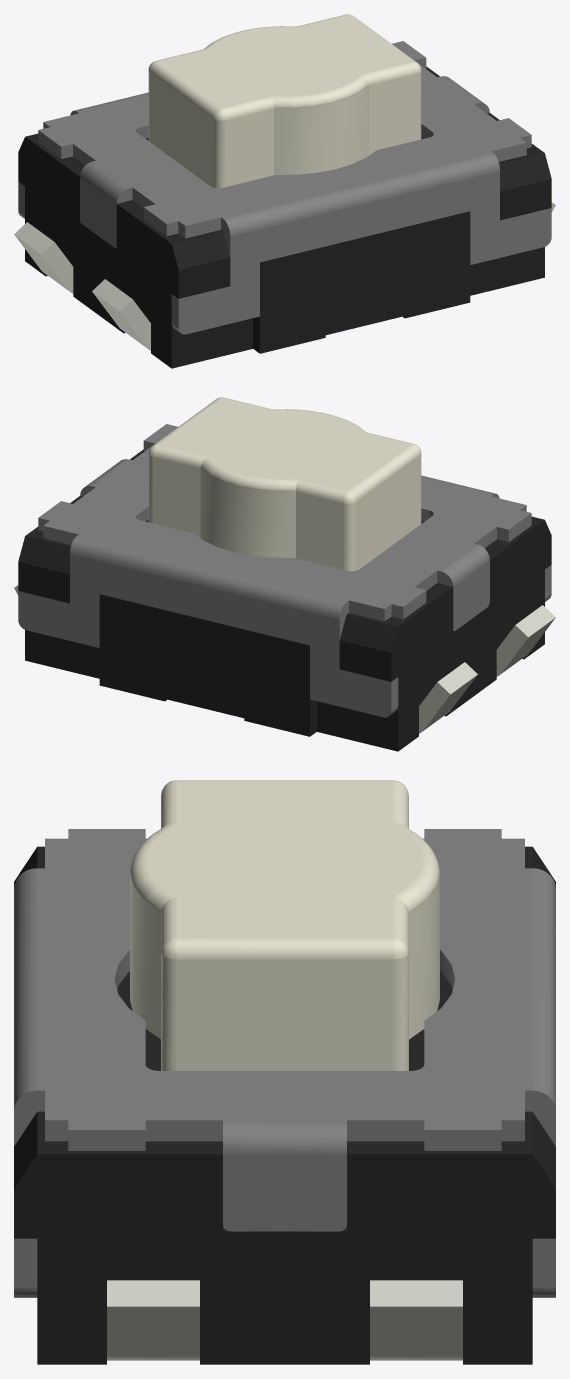
File: kc-sw_spst_evqp2_shortpushtravel_h2.5mm.glb
3 renders of one model, top to bottom at view 1: azimuth 30°, elevation 25°; view 2: azimuth 150°, elevation 25°; view 3: azimuth 270°, elevation 25°, orthographic. The views are drawn at different scales.
Visible parts, largest first — view 1: 0.25_0.25_0.25_0, 0_0_0_0, 0.75_0.75_0.6666666666666666_0, 0.6666666666666666_0.6666666666666666_0.5833333333333334_0.8; view 2: 0.25_0.25_0.25_0, 0_0_0_0, 0.75_0.75_0.6666666666666666_0, 0.6666666666666666_0.6666666666666666_0.5833333333333334_0.8; view 3: 0.25_0.25_0.25_0, 0_0_0_0, 0.75_0.75_0.6666666666666666_0, 0.6666666666666666_0.6666666666666666_0.5833333333333334_0.8.
Part boxes in pixels (x1,y1,x2,y2): 0.25_0.25_0.25_0: (18, 41, 551, 334); 0_0_0_0: (18, 66, 551, 368); 0.75_0.75_0.6666666666666666_0: (148, 14, 421, 188); 0.6666666666666666_0.6666666666666666_0.5833333333333334_0.8: (14, 202, 555, 350); 0.25_0.25_0.25_0: (18, 424, 551, 717); 0_0_0_0: (18, 449, 551, 751); 0.75_0.75_0.6666666666666666_0: (148, 397, 421, 571); 0.6666666666666666_0.6666666666666666_0.5833333333333334_0.8: (14, 585, 555, 733); 0.25_0.25_0.25_0: (14, 829, 555, 1296); 0_0_0_0: (14, 846, 555, 1364); 0.75_0.75_0.6666666666666666_0: (130, 780, 439, 1070); 0.6666666666666666_0.6666666666666666_0.5833333333333334_0.8: (107, 1280, 462, 1360).
Bounding box in the file's own units: 0.55 × 0.25 × 0.35.
